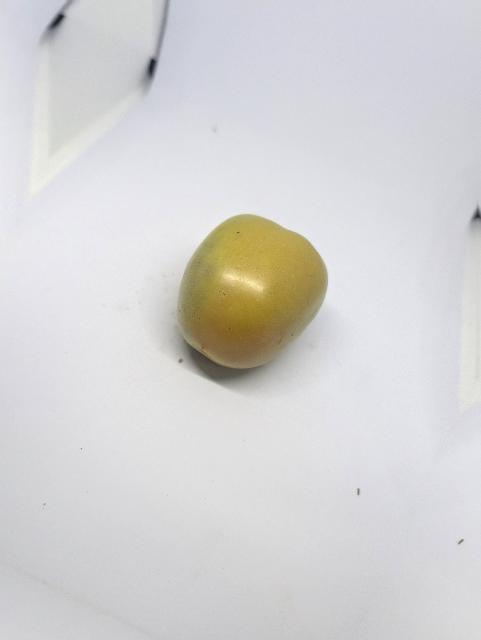breaker: (171, 213, 332, 373)
